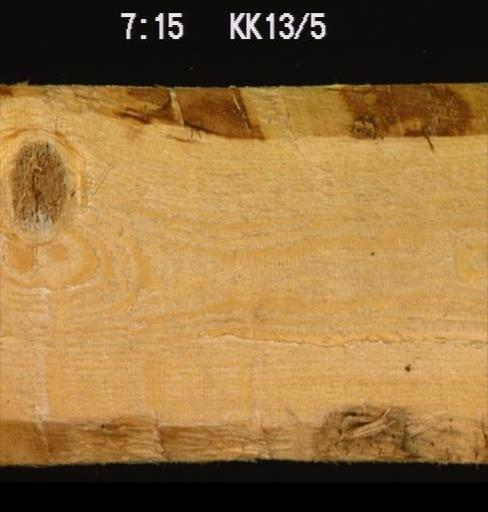small_knot: (400, 359, 412, 376)
sound_knot: (4, 137, 68, 233)
wave: (0, 403, 485, 461), (0, 83, 484, 136)
